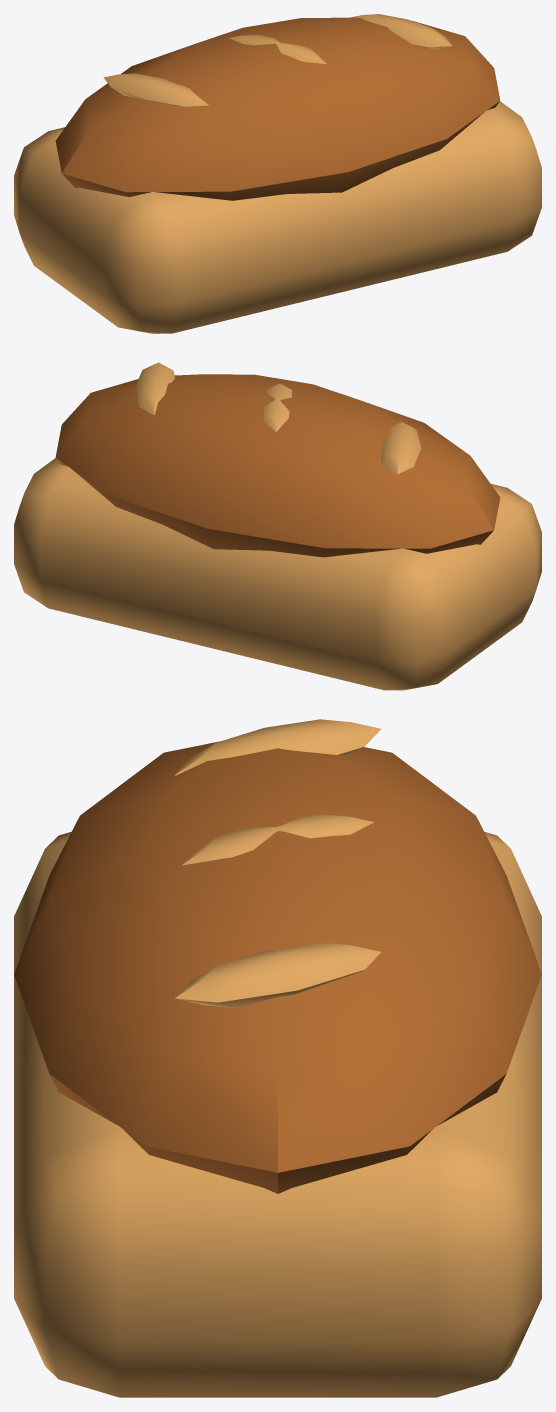
Rendered from Bread.fbx.
The picture shows the model from 3 angles, top to bottom: view 1: azimuth 30°, elevation 25°; view 2: azimuth 150°, elevation 25°; view 3: azimuth 270°, elevation 25°; orthographic projection. The views are drawn at different scales.
Visible parts, largest first — view 1: Bread; view 2: Bread; view 3: Bread.
Part boxes in pixels (<box>): Bread: <box>14,14,541,333</box>; Bread: <box>14,362,541,690</box>; Bread: <box>14,719,541,1397</box>.
Bounding box in the file's own units: 1.6 × 0.776 × 0.9.
1 material, 1 textured.
